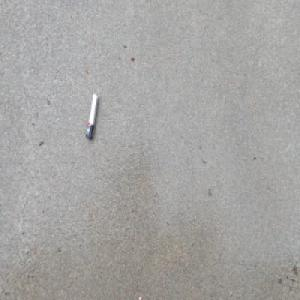Battery: (84, 90, 98, 140)
